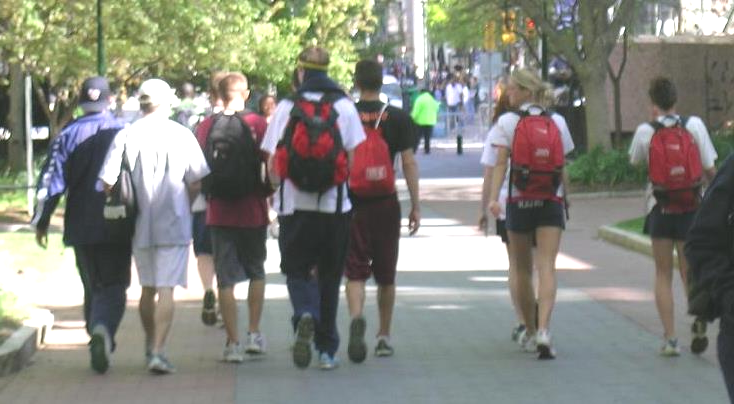pedestrian: (261, 46, 367, 370), (98, 79, 210, 375), (30, 77, 135, 375), (485, 69, 575, 361), (628, 77, 718, 356), (345, 59, 420, 364), (195, 74, 271, 362)
